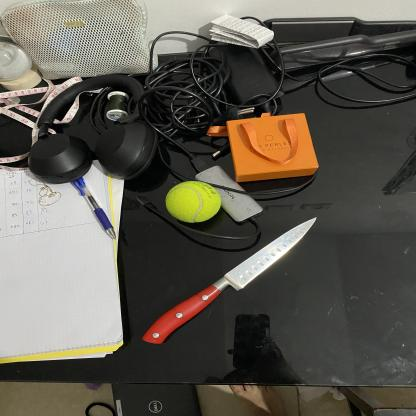Knife: (138, 213, 322, 348)
